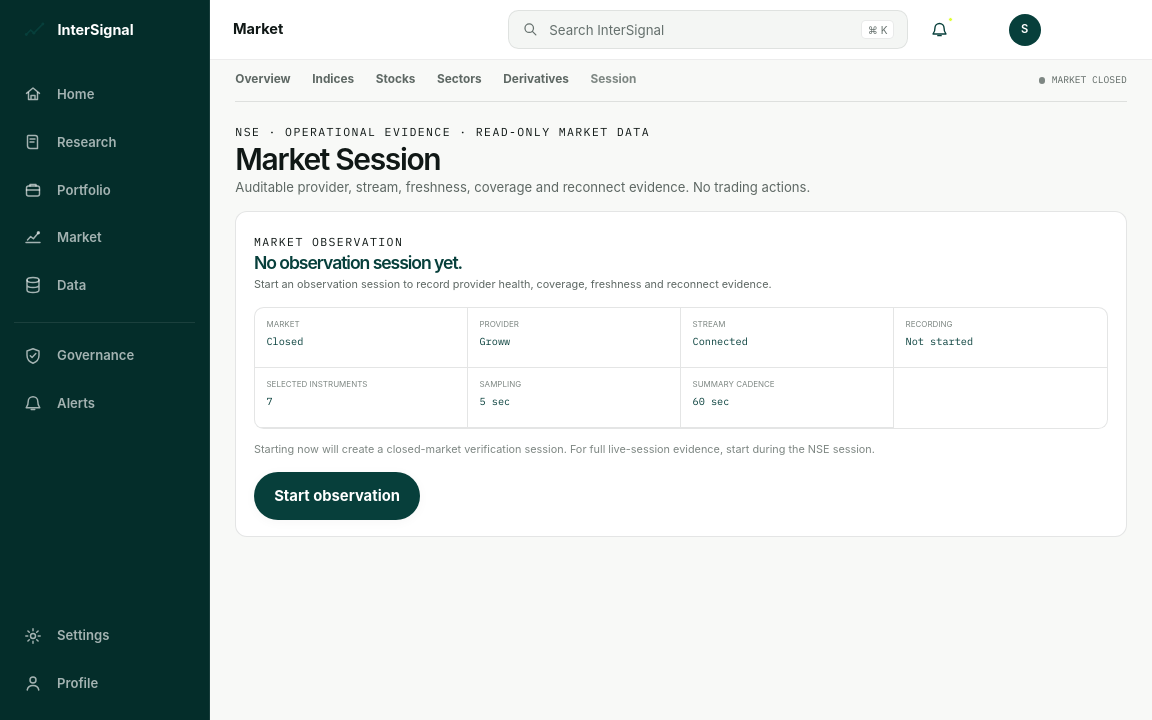
Test: MarketSessionPage state semantics › starts once, prevents duplicate clicks, and renders the returned pre-open session
The image size is (1152, 720).
Step 1. Click the button "Start observation" → point(337, 496), box [254, 472, 420, 520]
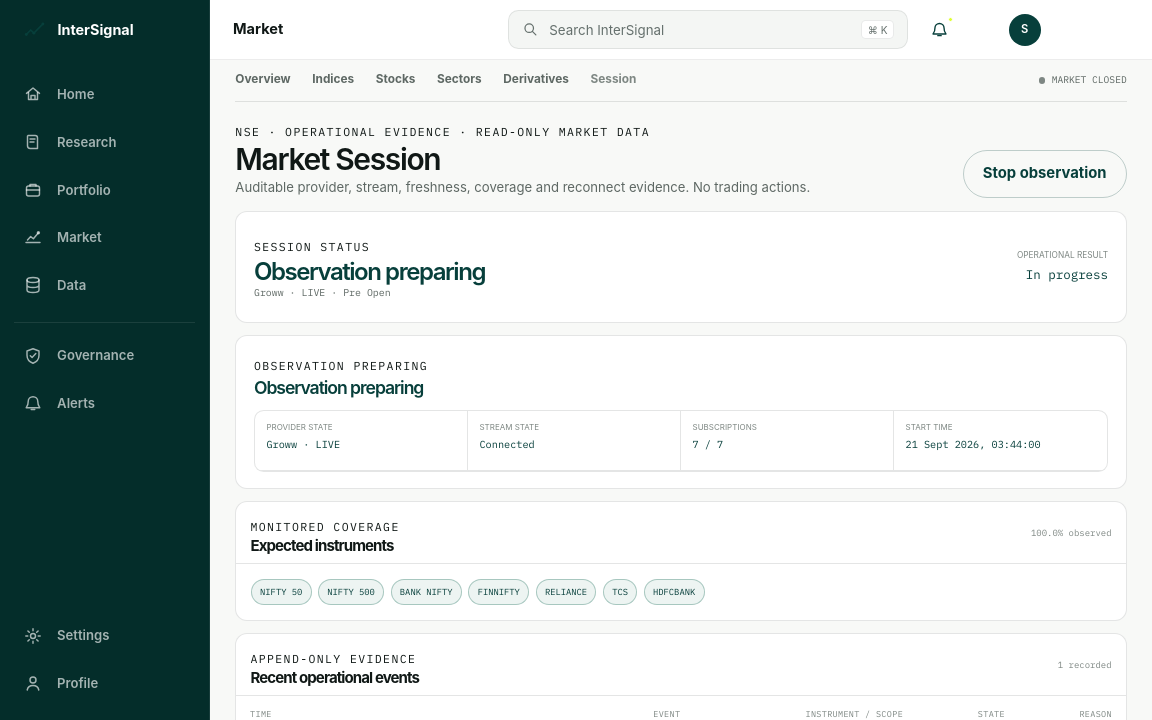
Check: the heading "Observation preparing" below "SESSION STATUS" is shown, box [254, 261, 485, 282]
Check: the text "Groww · LIVE · Pre Open" is shown, box [254, 286, 391, 299]
